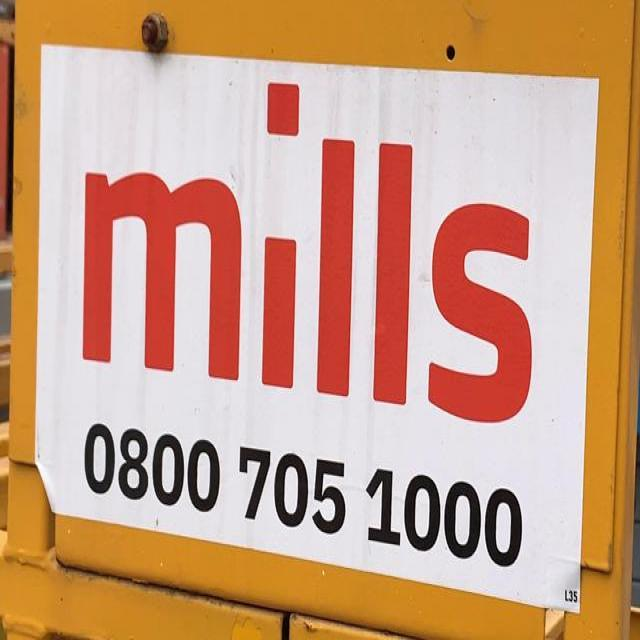Adesivos: (27, 30, 610, 625)
